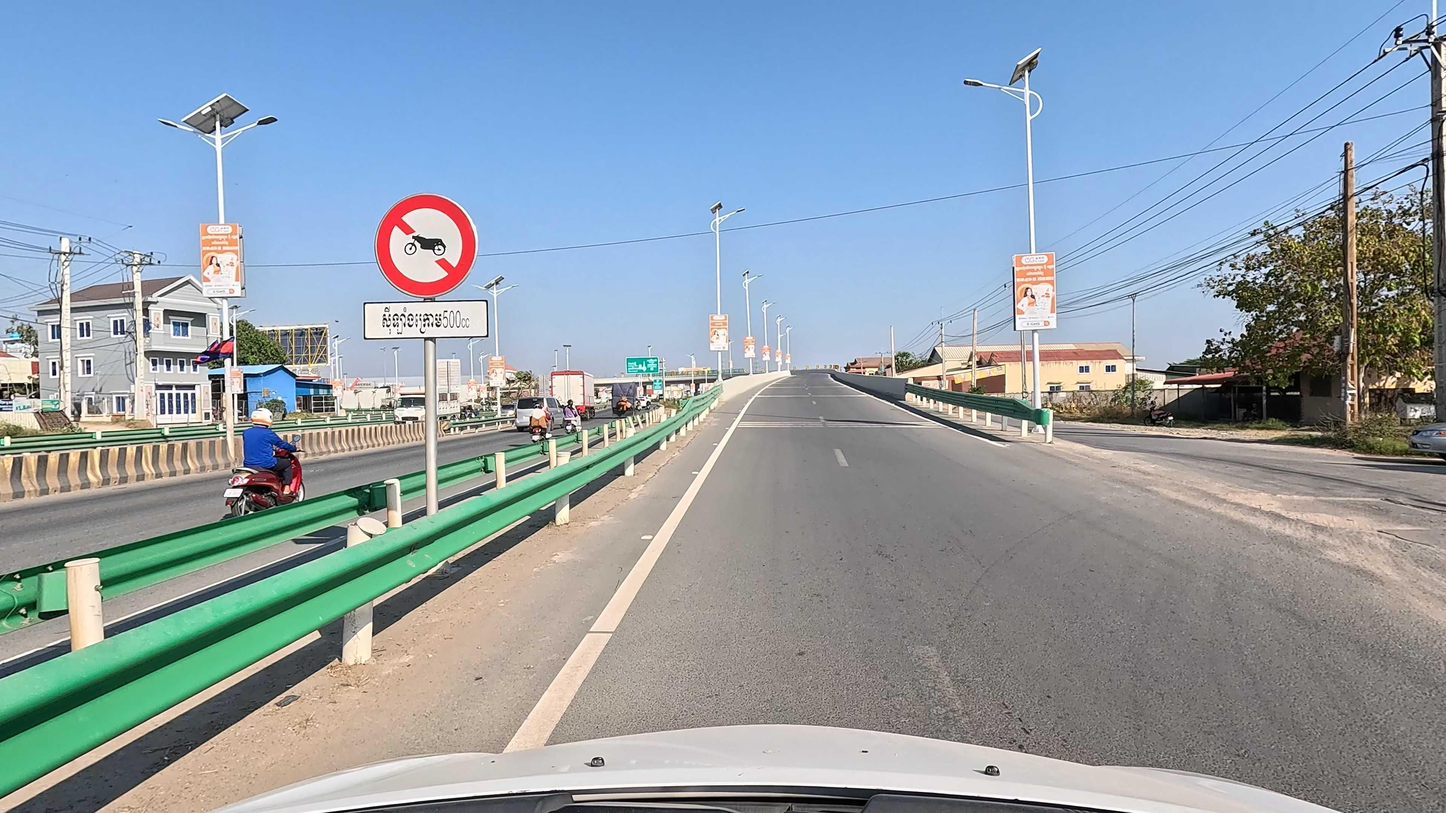no_motorcycles: (374, 193, 479, 298)
